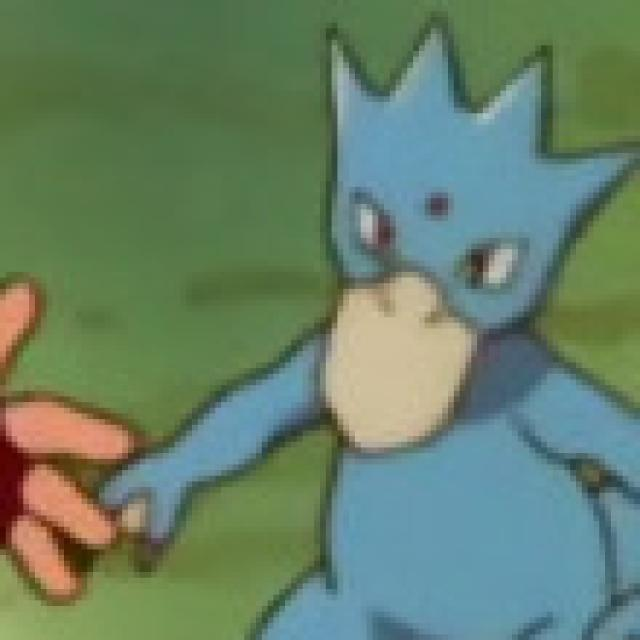Golduck: (298, 27, 640, 640)
